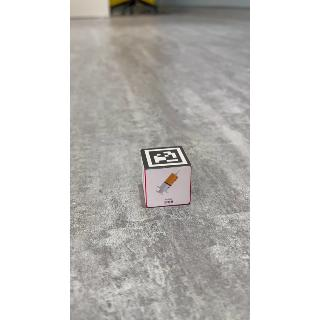Syringe: (147, 169, 192, 207)
